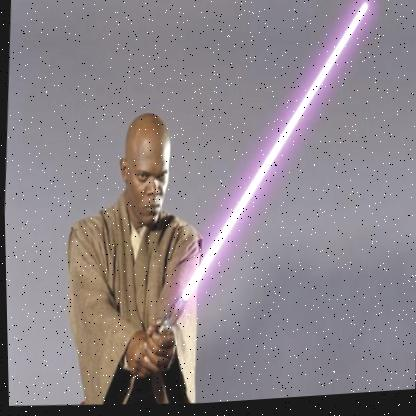lightsaber: (118, 0, 379, 388)
